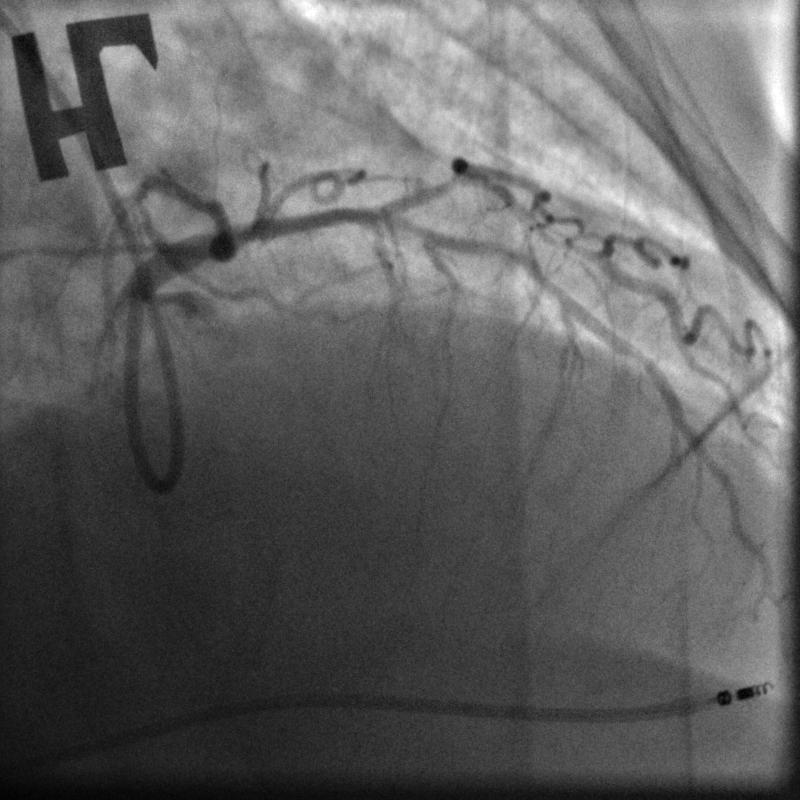Stenosis: (483, 237, 542, 286)
